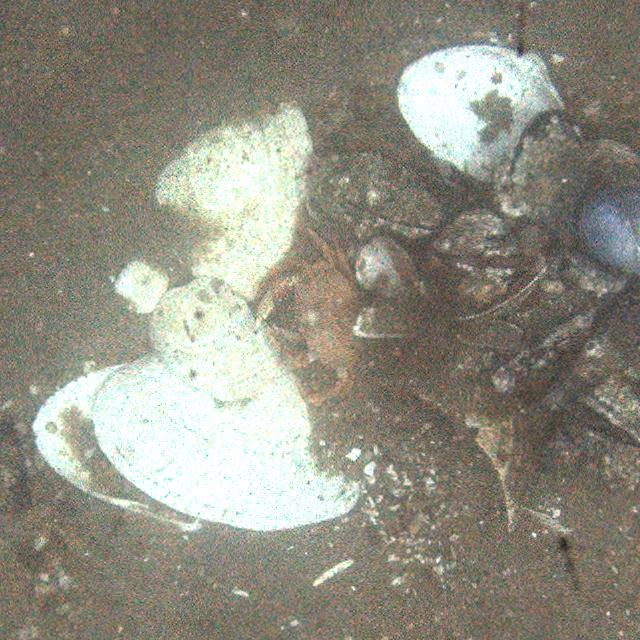crab: (267, 226, 367, 401)
